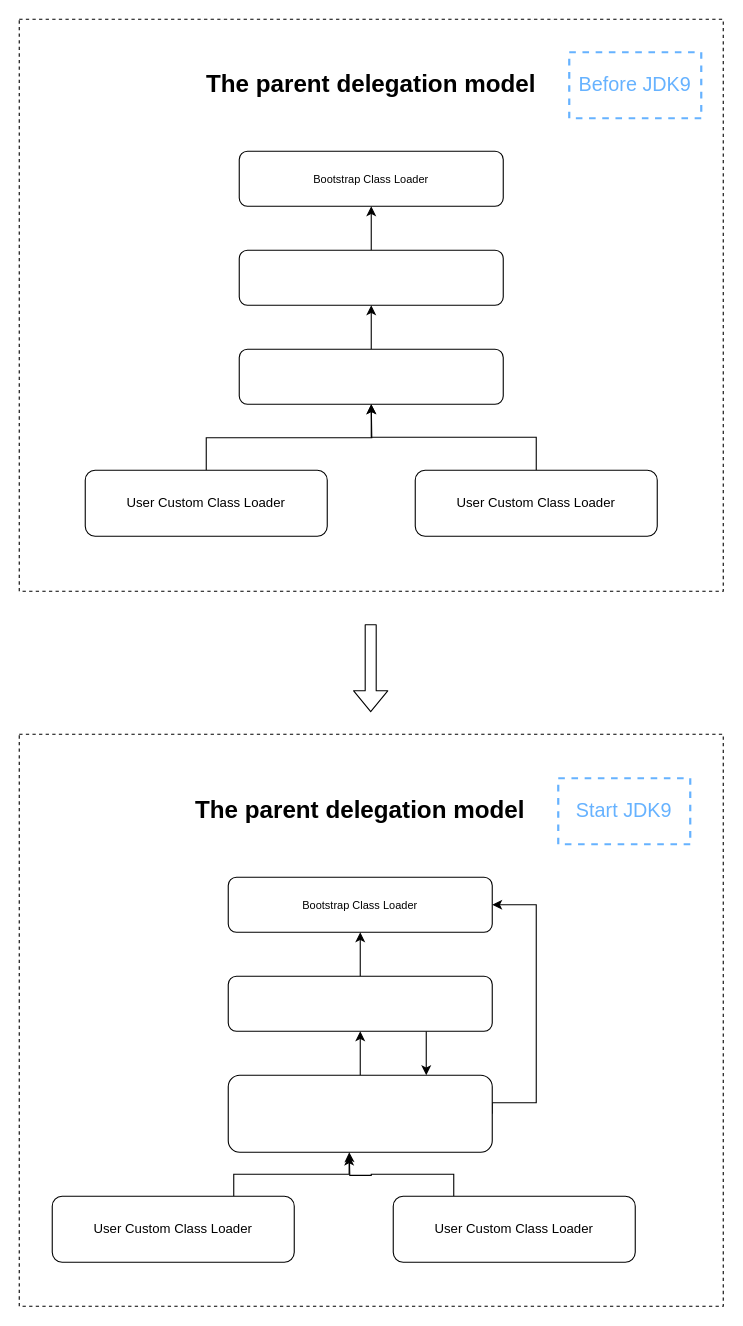
Image size: 743x1326. Some labels were removed from this diagram. The shapes that lost their labels are listed below. From the top down, each one's box as (x1, y1, x2, y2) in pixels, then its label:
(238, 249, 503, 305): Extension Class Loader
(238, 348, 503, 404): Application Class Loader
(227, 975, 492, 1031): Platform Class Loader
(227, 1074, 492, 1152): Application Class Loader AKA System Class Loader
